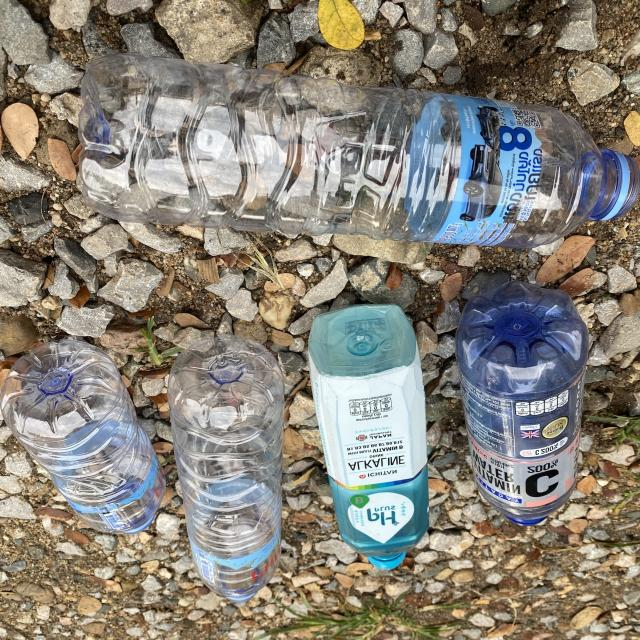plastik: (79, 53, 640, 247), (457, 280, 587, 525), (1, 339, 165, 533), (309, 305, 428, 569), (168, 334, 283, 601)
